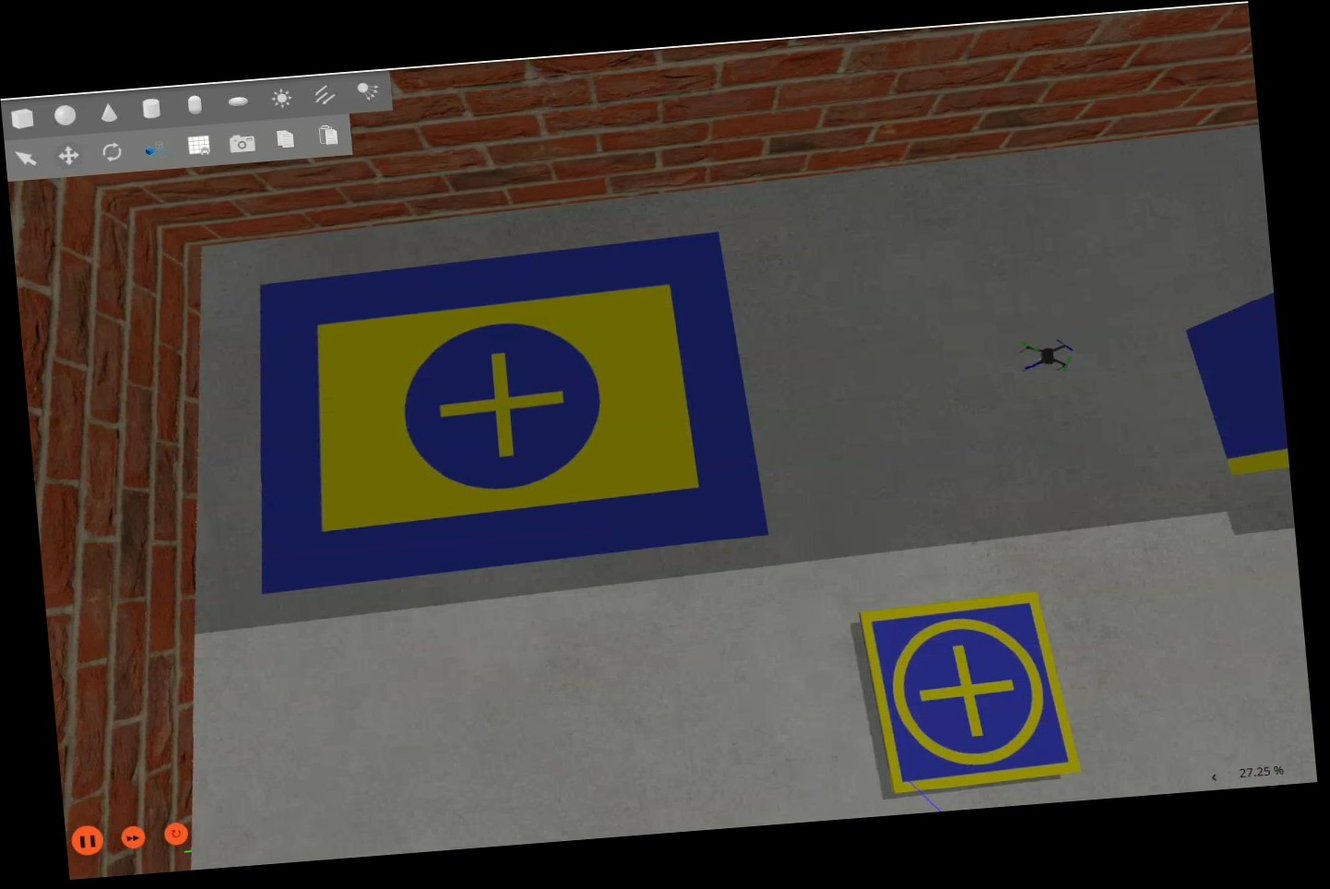large_base: (232, 230, 776, 594)
small_base: (858, 586, 1085, 797)
